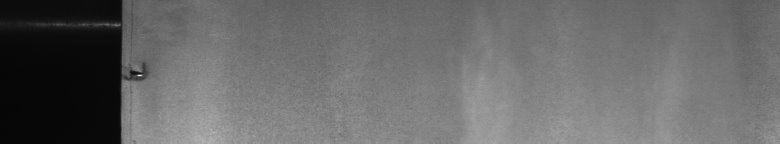hb: (132, 12, 152, 95)
